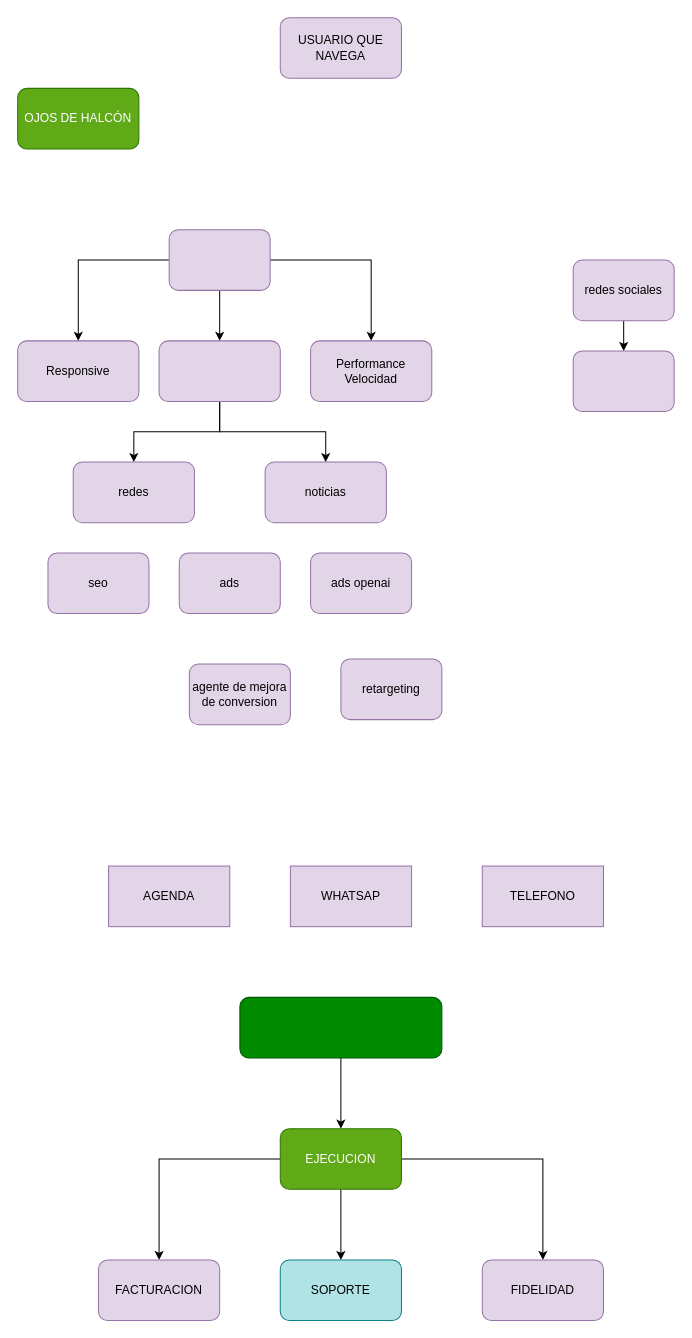
The diagram is 692 pixels wide and 1338 high, and some of its shapes have lost their labels. The shapes that lost their labels are listed below. From the top down, each one's centre as x and y in pixels, then its label:
(x=219, y=259): pagina web
(x=219, y=370): se auto construye
(x=623, y=381): Linkedin
(x=340, y=1027): COMERCIAL/CONSULTOR
